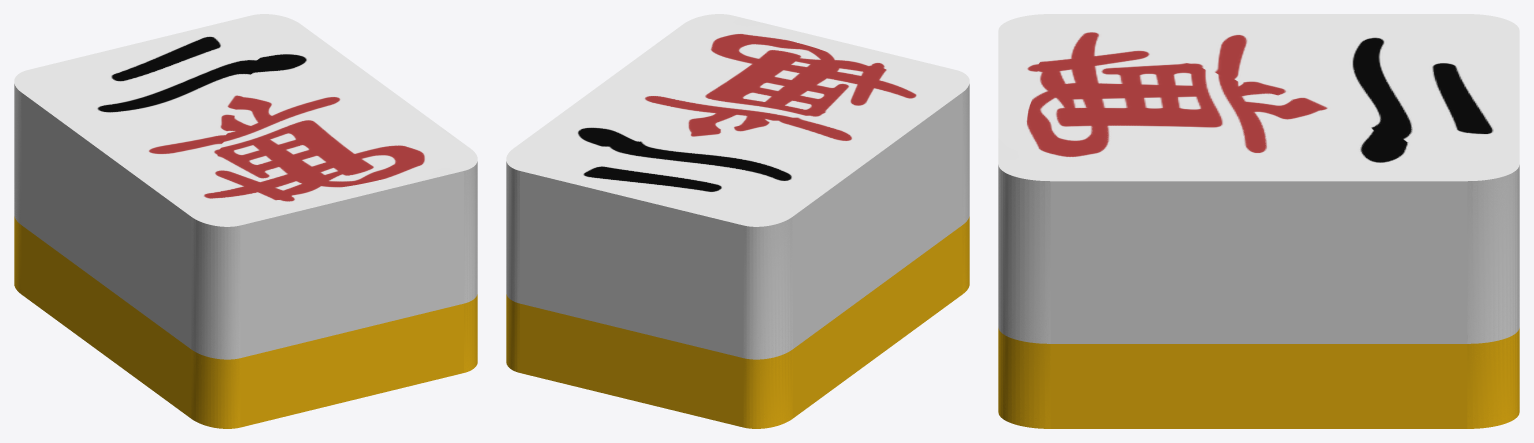
Rendered from MyModel.fbx.
3 views of the same model, side by side, from view 1: azimuth 30°, elevation 25°; view 2: azimuth 150°, elevation 25°; view 3: azimuth 270°, elevation 25° (orthographic). The views are drawn at different scales.
Visible parts, largest first — view 1: Plane.051; view 2: Plane.051; view 3: Plane.051.
Boxes of the visible parts, left/top/right/bottom form: Plane.051: left=14, top=14, right=477, bottom=428; Plane.051: left=506, top=14, right=969, bottom=428; Plane.051: left=998, top=14, right=1519, bottom=428.
Size of the model in its own units: 334 by 231 by 440.
